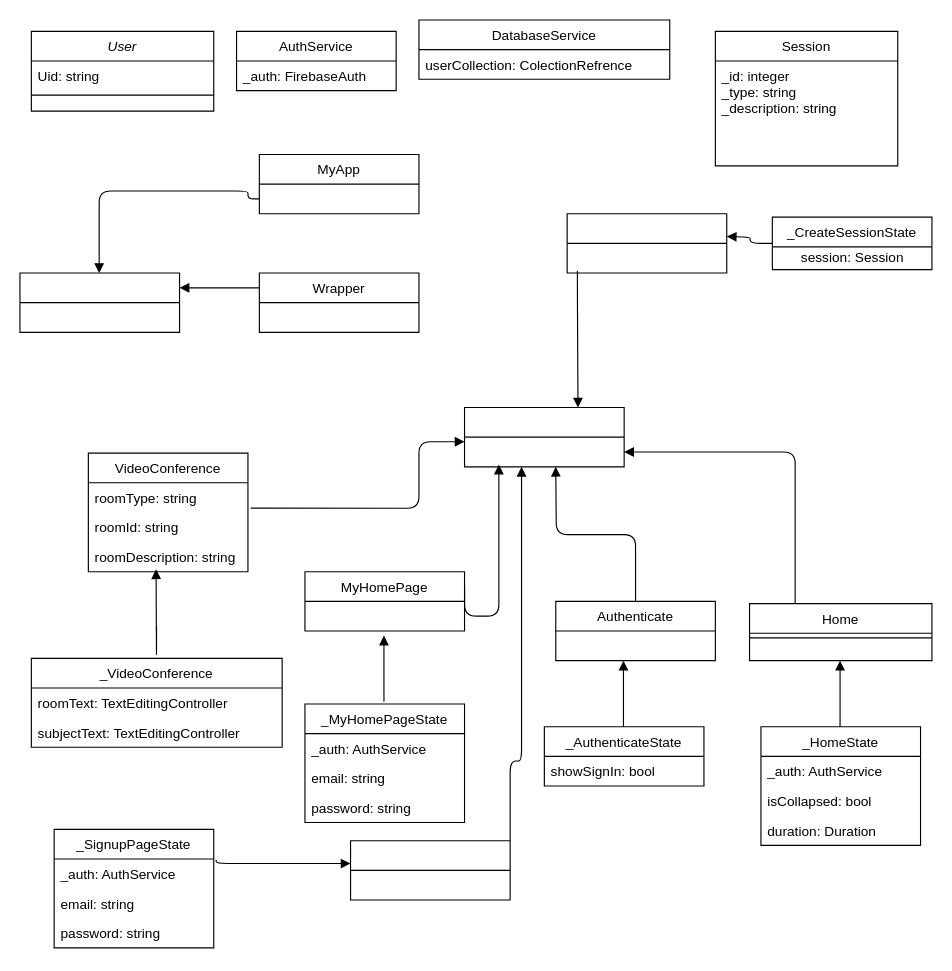
Image size: 952x971. Some labels were removed from this diagram. Here are the shapes that lost their labels. From the top down, the centre of each, then its label:
the point at 646,243: CreateSession
the point at 99,302: StatelessWidget
the point at 543,436: StatefulWidget
the point at 429,870: SignupPage
